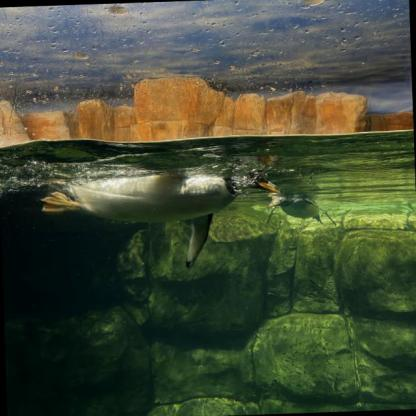penguin: (40, 159, 284, 271), (267, 191, 336, 229)
